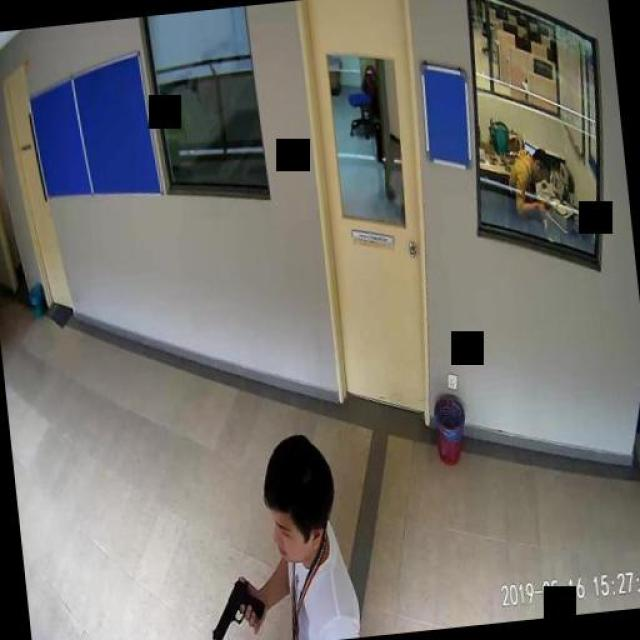gun: (204, 574, 265, 640)
